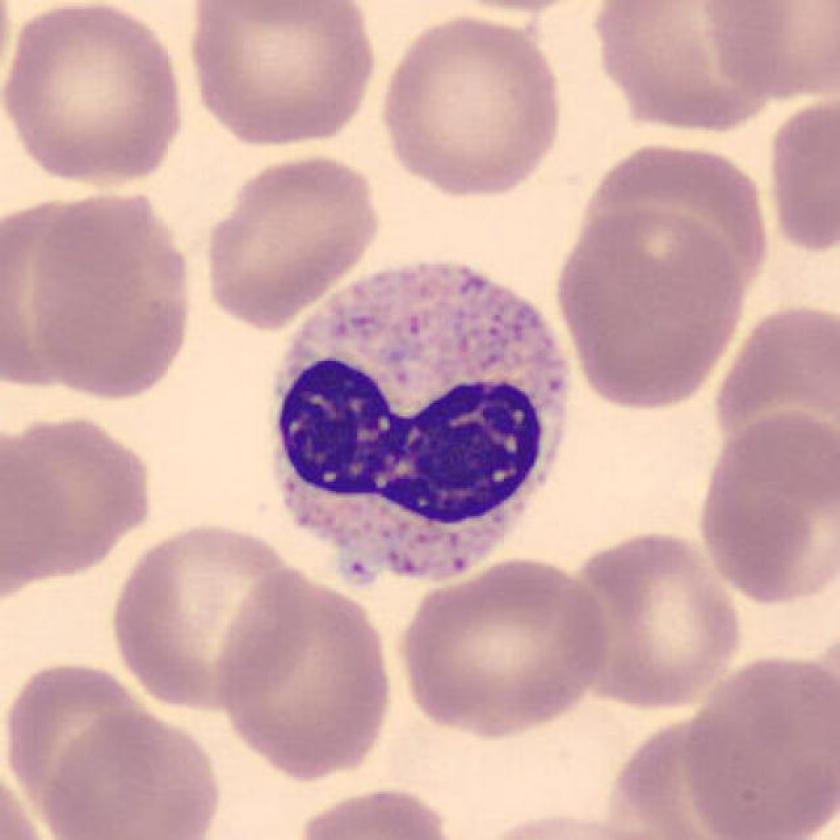neutrophil: (273, 264, 572, 585)
